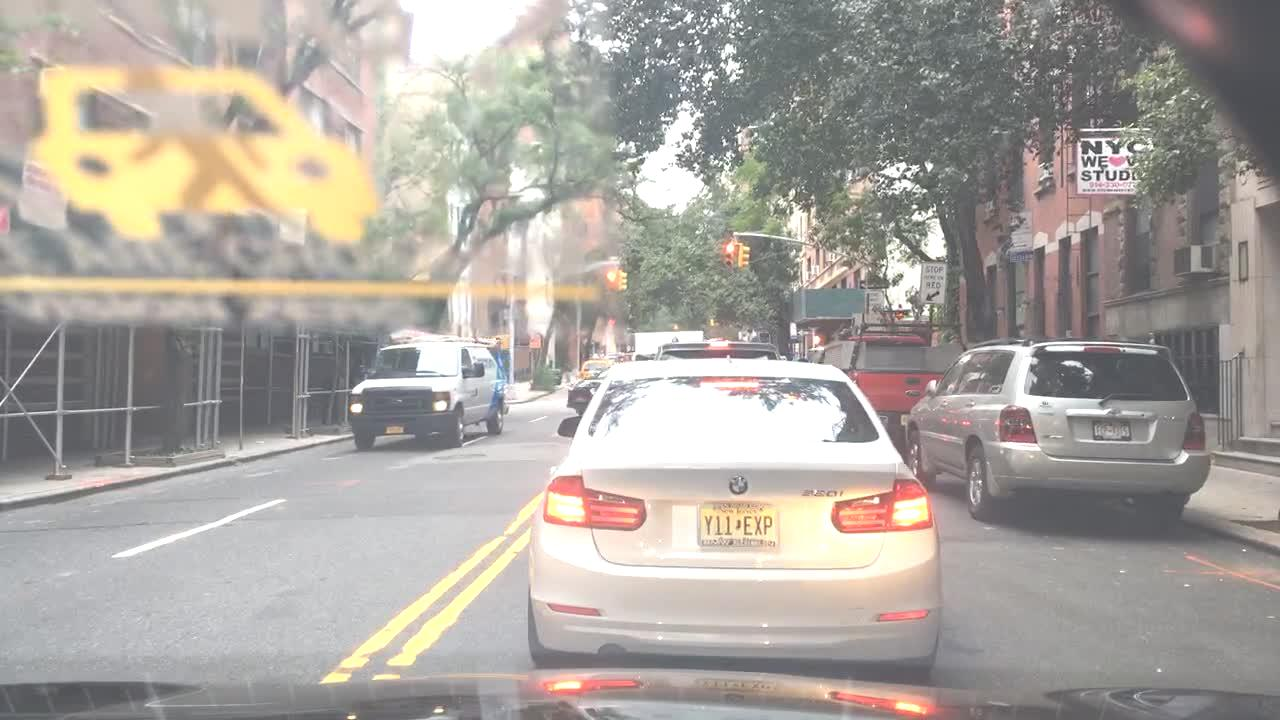bmw: (724, 473, 751, 496)
